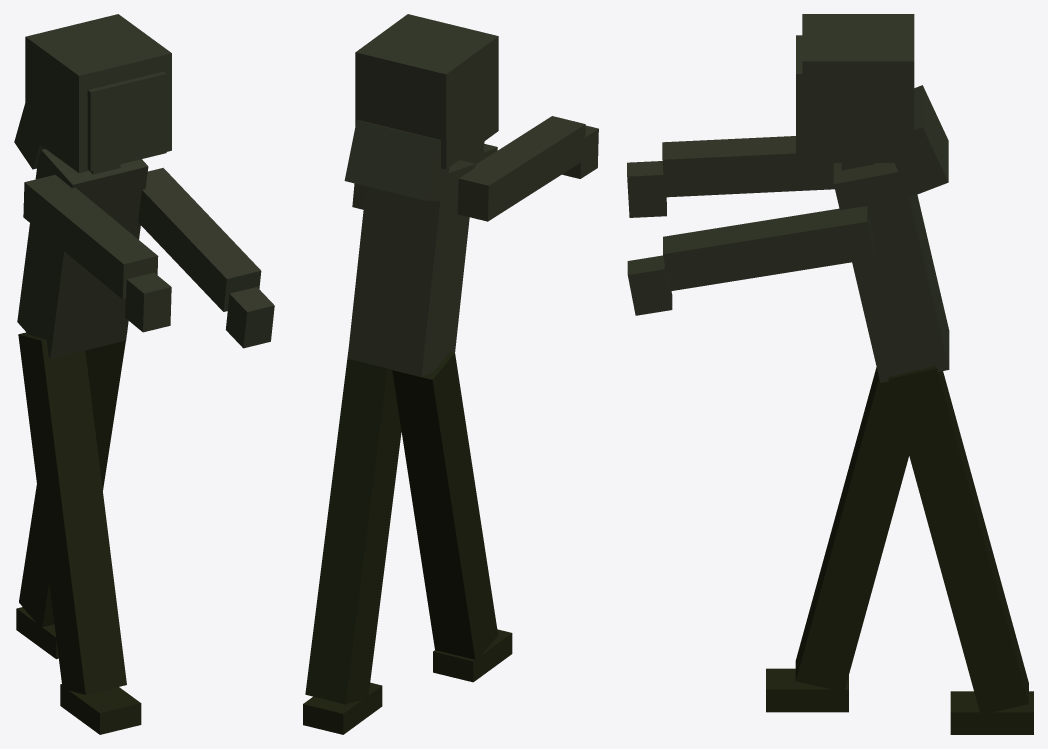
Rendered from SM_ZombiFino_v8_Capucha_LOD1.fbx.
The picture shows the model from 3 angles, left to right: view 1: azimuth 30°, elevation 25°; view 2: azimuth 150°, elevation 25°; view 3: azimuth 270°, elevation 25°; orthographic projection. The views are drawn at different scales.
Visible parts, largest first — view 1: SM_zombi_fino_v8_LOD1; view 2: SM_zombi_fino_v8_LOD1; view 3: SM_zombi_fino_v8_LOD1.
Part boxes in pixels (box(x1,y1,x2,y2)): SM_zombi_fino_v8_LOD1: box(14, 14, 274, 734); SM_zombi_fino_v8_LOD1: box(303, 14, 598, 734); SM_zombi_fino_v8_LOD1: box(627, 14, 1033, 734).
Bounding box in the file's own units: 0.4 × 1.79 × 0.9796.
